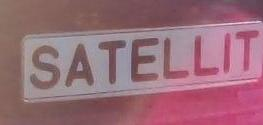1: (219, 27, 235, 79)
A: (63, 37, 98, 94)
E: (125, 33, 164, 87)
L: (188, 30, 223, 81), (160, 31, 192, 82)
S: (28, 38, 66, 98)
T: (94, 34, 130, 87), (232, 25, 263, 74)
